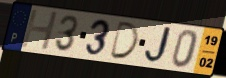0: (170, 28, 199, 69)
3: (83, 17, 115, 58), (53, 14, 81, 53)
D: (107, 20, 141, 61)
H: (19, 9, 60, 52)
J: (143, 25, 176, 65)
